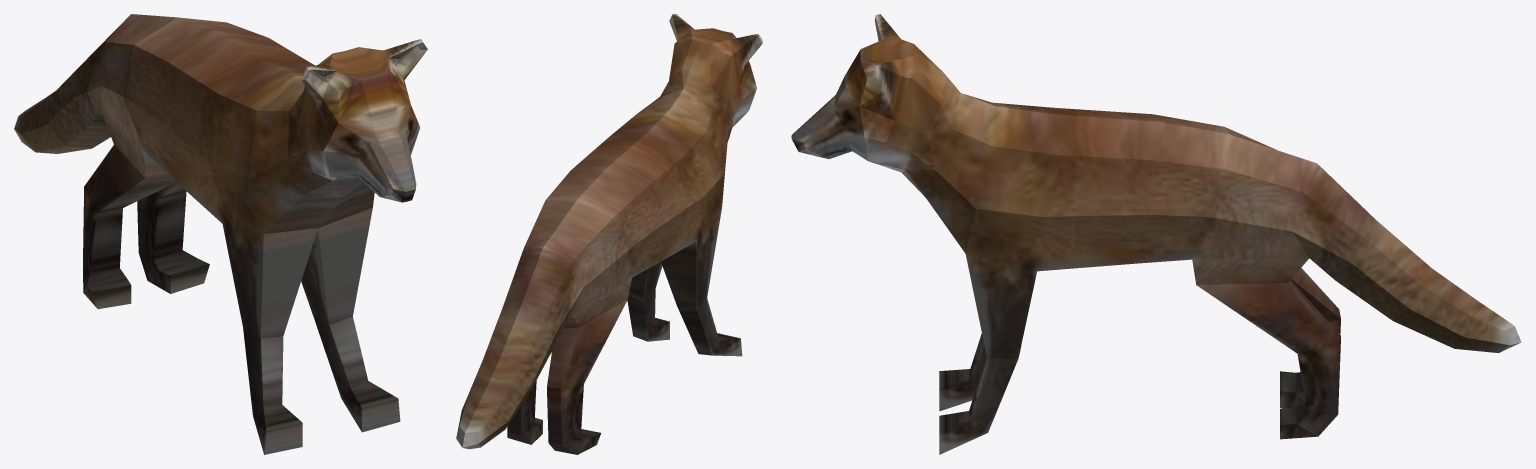
Rendered from fox.fbx.
3 views of the same model, side by side, from view 1: azimuth 30°, elevation 25°; view 2: azimuth 150°, elevation 25°; view 3: azimuth 270°, elevation 25° (orthographic). The views are drawn at different scales.
Visible parts, largest first — view 1: Cube.001; view 2: Cube.001; view 3: Cube.001.
Boxes of the visible parts, <box> form: Cube.001: <box>14,14,427,454</box>; Cube.001: <box>456,14,762,454</box>; Cube.001: <box>791,14,1521,454</box>.
Bounding box in the file's own units: 20.29 × 58.31 × 100.
